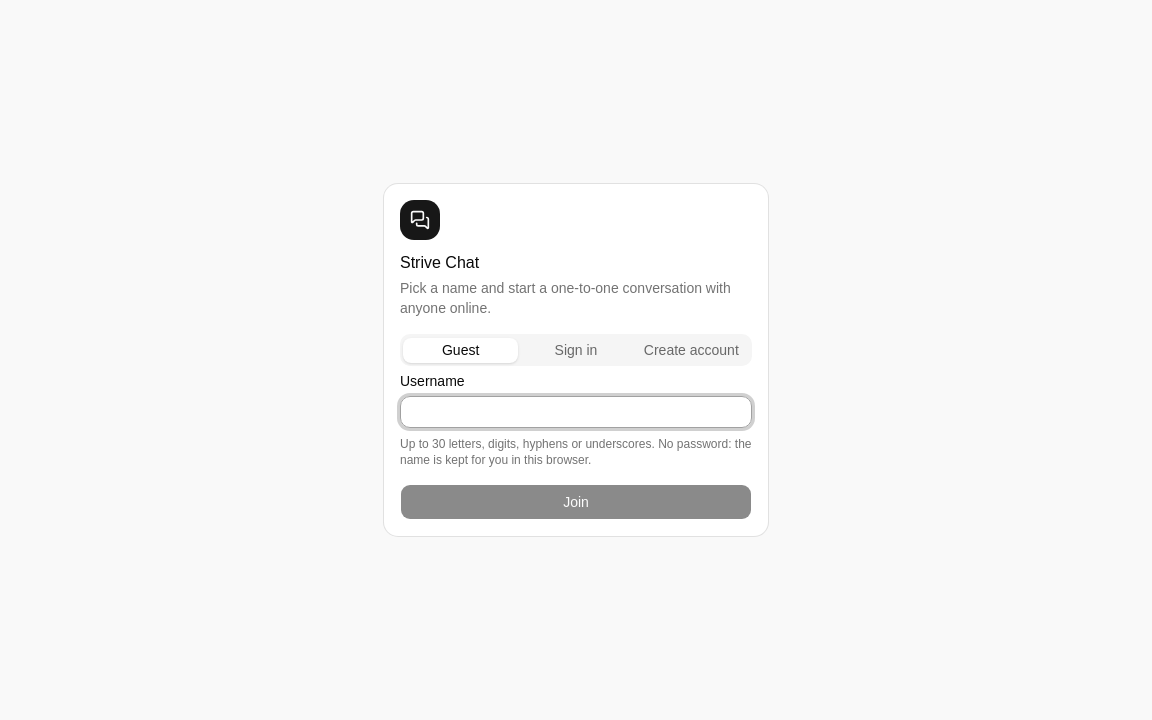
it: the chat list › moves a conversation to the top when a message arrives in it, and updates its preview
This screenshot has width=1152, height=720.
In the field labelled "Username": (576,412) [400,396,752,428], type "alice"
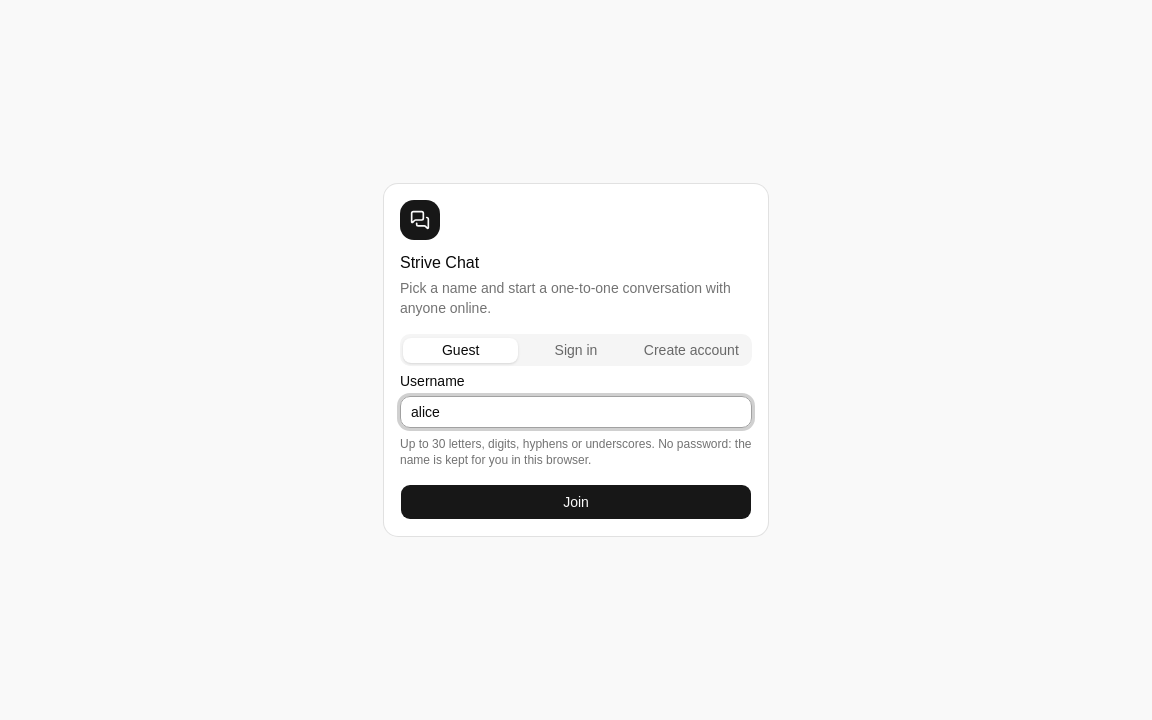
Click the button "Join": (576,502) [400,484,752,520]
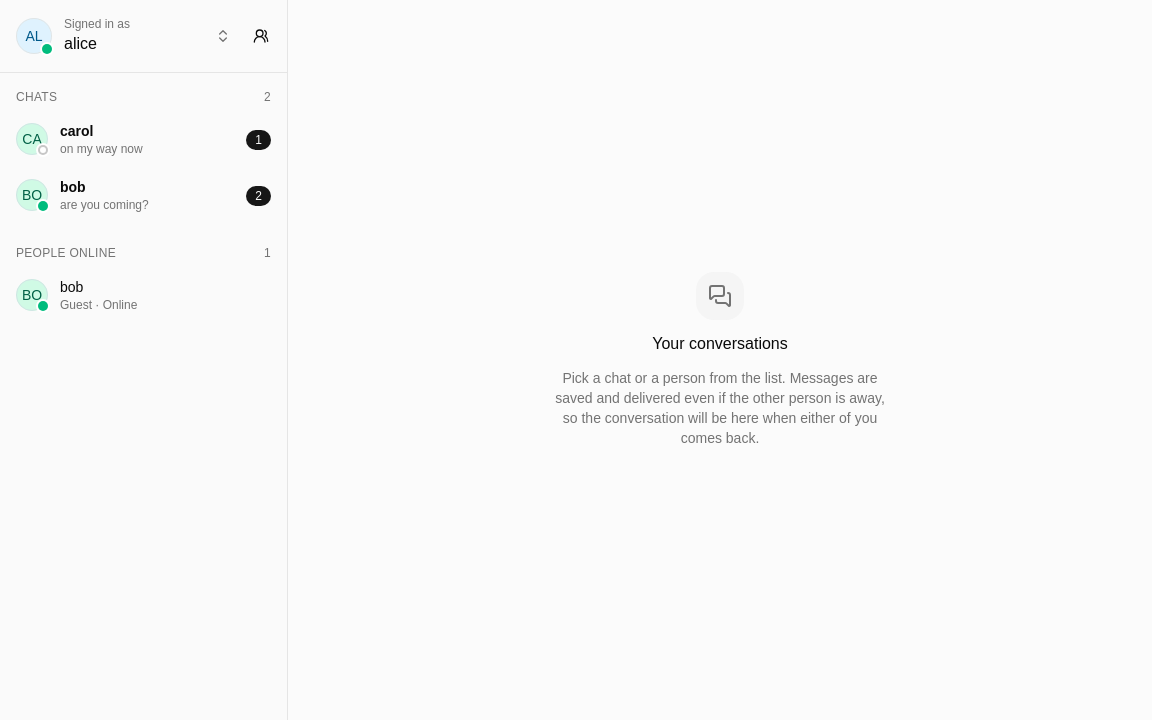
Check: the navigation bar "People online" is shown, box [0,229,287,329]
Check: the button "CA carol on my way now 1" is shown, box [8,113,279,165]
